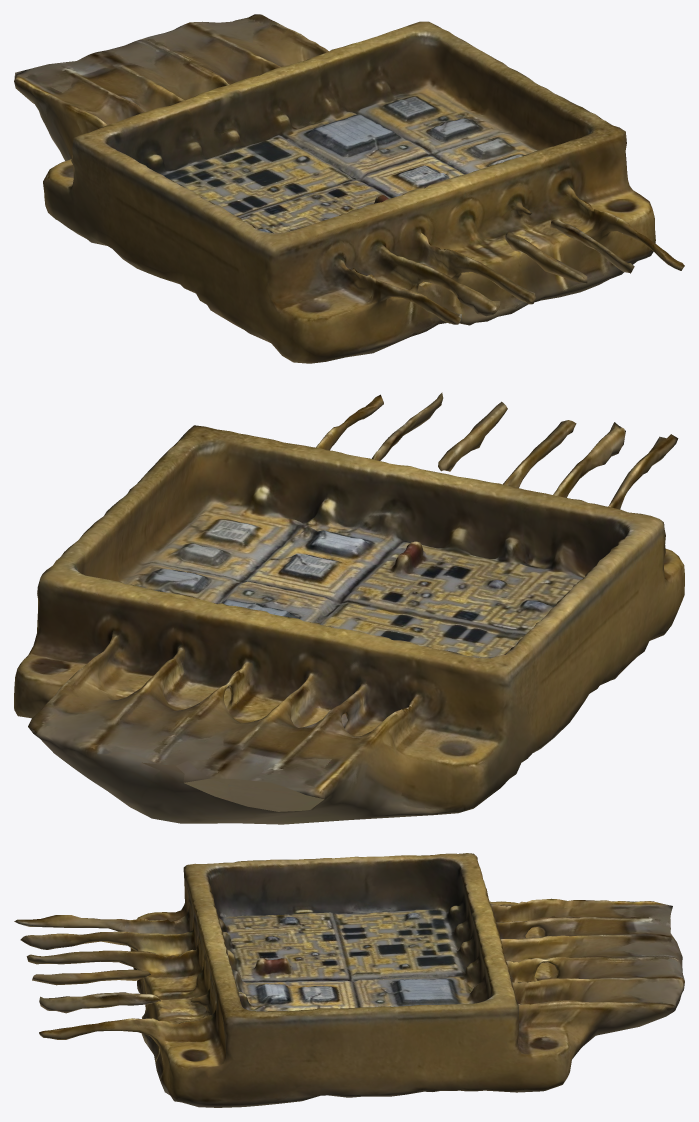
Rendered from gold_microprocessor.glb.
3 renders of one model, top to bottom at view 1: azimuth 30°, elevation 25°; view 2: azimuth 150°, elevation 25°; view 3: azimuth 270°, elevation 25°, orthographic. The views are drawn at different scales.
Parts seen in each view (by area): view 1: 3DModel; view 2: 3DModel; view 3: 3DModel.
Boxes of the visible parts, x1=… form: 3DModel: x1=14, y1=14, x2=684, y2=363; 3DModel: x1=14, y1=392, x2=684, y2=824; 3DModel: x1=14, y1=853, x2=684, y2=1107.
Size of the model in its own units: 0.4257 by 0.1185 by 0.682.
1 material, 1 textured.
